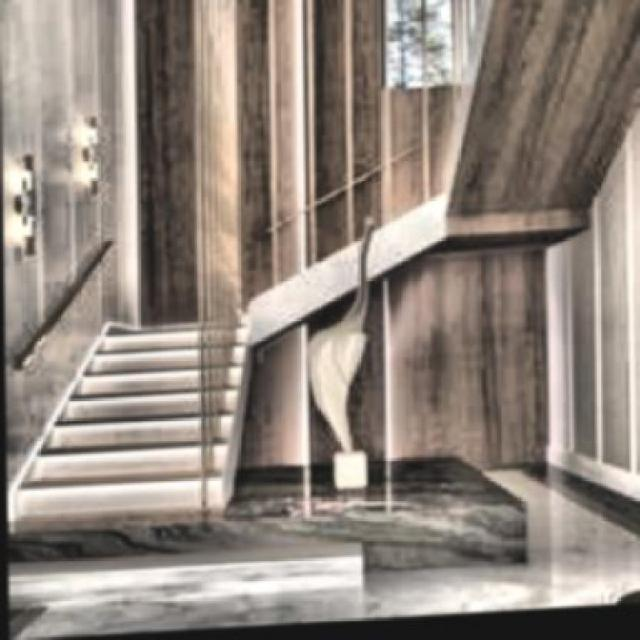stair: (8, 315, 276, 534)
